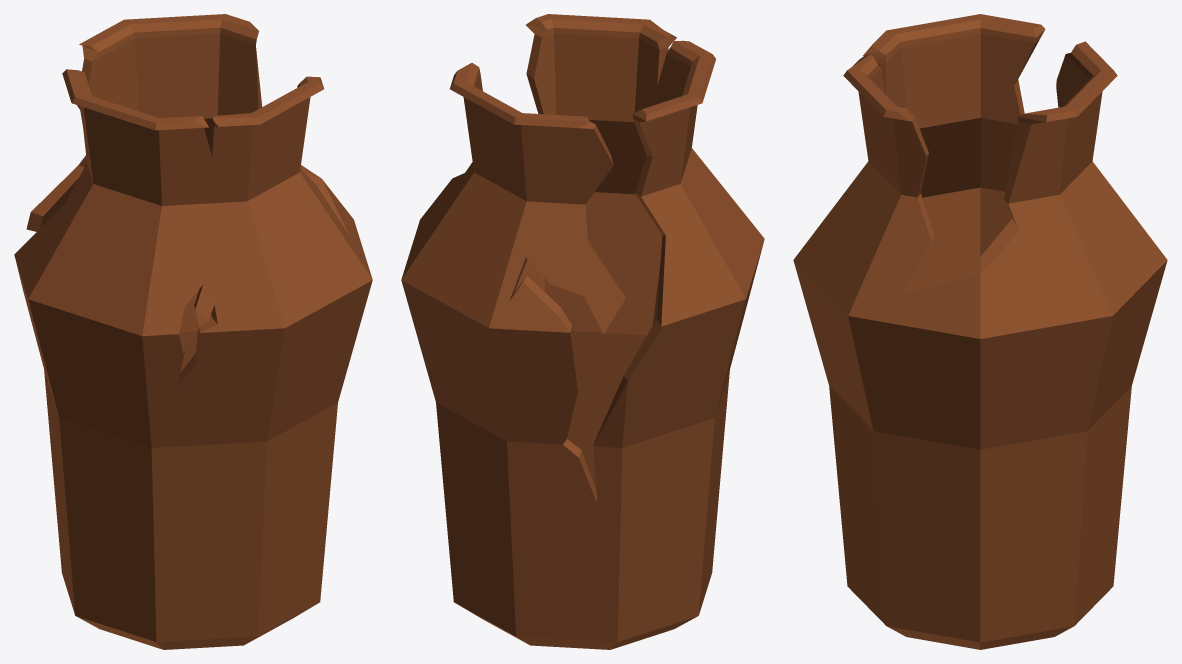
File: Collin_BrokenVase_005_Body.fbx
3 renders of one model, left to right at view 1: azimuth 30°, elevation 25°; view 2: azimuth 150°, elevation 25°; view 3: azimuth 270°, elevation 25°, orthographic.
Visible parts, largest first — view 1: Broken_Vase_001; view 2: Broken_Vase_001; view 3: Broken_Vase_001.
Boxes of the visible parts, bbox=[...] form: Broken_Vase_001: bbox=[14, 14, 372, 649]; Broken_Vase_001: bbox=[401, 14, 764, 649]; Broken_Vase_001: bbox=[793, 14, 1167, 649].
Size of the model in its own units: 60.59 by 95.62 by 60.59.
Materials: 1 (1 with a texture image).
